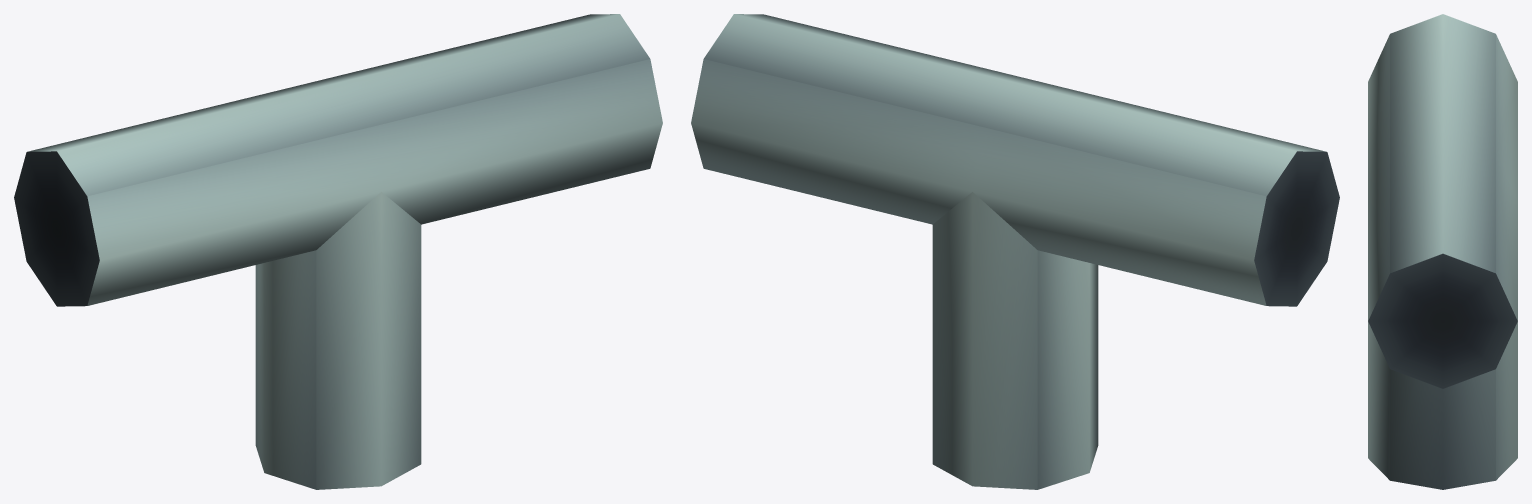
The model's file is drain_T.fbx.
3 views of the same model, side by side, from view 1: azimuth 30°, elevation 25°; view 2: azimuth 150°, elevation 25°; view 3: azimuth 270°, elevation 25° (orthographic). The views are drawn at different scales.
Visible parts, largest first — view 1: drain_T; view 2: drain_T; view 3: drain_T.
Part boxes in pixels (x1,y1,x2,y2): drain_T: (14, 14, 662, 489); drain_T: (691, 14, 1339, 489); drain_T: (1368, 14, 1517, 489).
Bounding box in the file's own units: 50 × 31.59 × 13.21.
